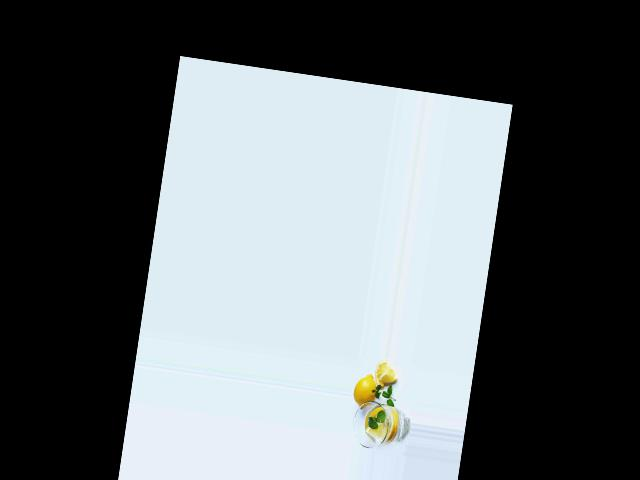lemon: (350, 373, 381, 414)
